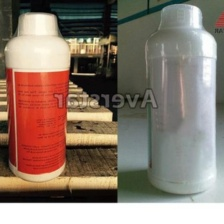insecticide: (142, 2, 220, 197), (2, 10, 72, 184)
